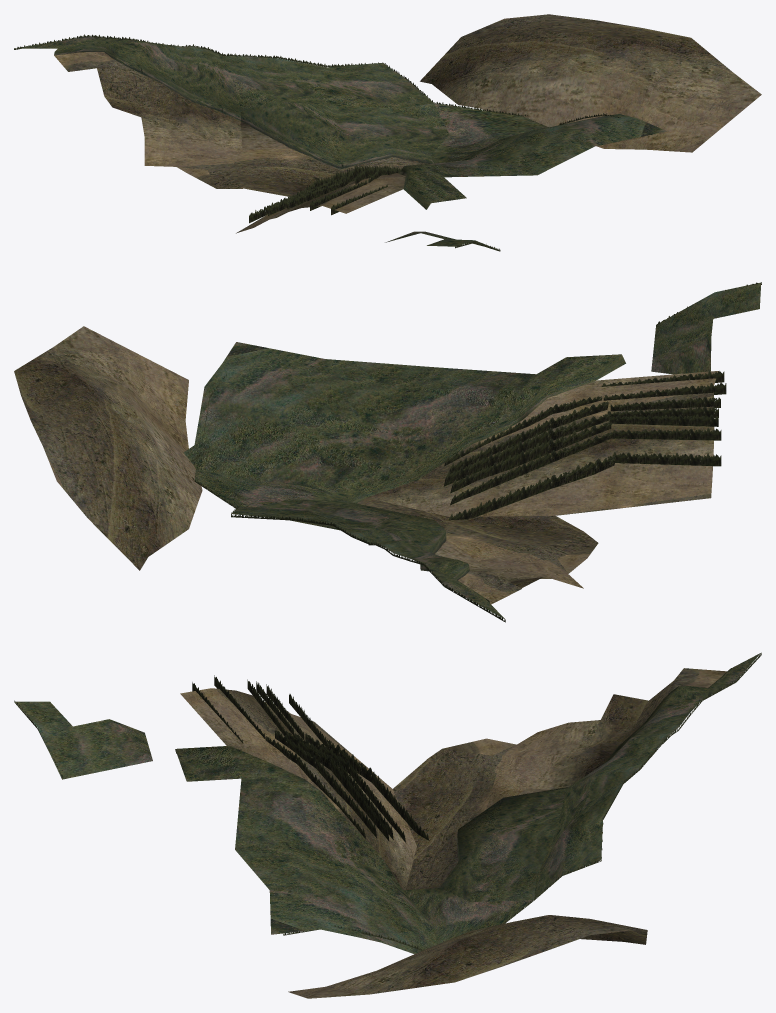
File: ebisuminami8.glb
The picture shows the model from 3 angles, top to bottom: view 1: azimuth 30°, elevation 25°; view 2: azimuth 150°, elevation 25°; view 3: azimuth 270°, elevation 25°; orthographic projection. The views are drawn at different scales.
Visible parts, largest first — view 1: Object018; view 2: Object018; view 3: Object018.
Boxes of the visible parts, <box> form: Object018: <box>14,14,761,251</box>; Object018: <box>14,282,761,622</box>; Object018: <box>14,652,761,998</box>.
Size of the model in its own units: 610 by 106 by 629.
3 materials, 3 textured.
